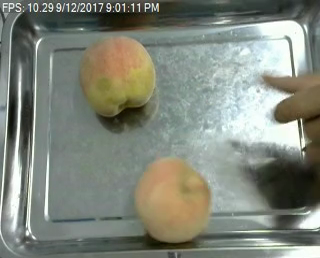Peach: (133, 156, 212, 242), (78, 35, 156, 117)
